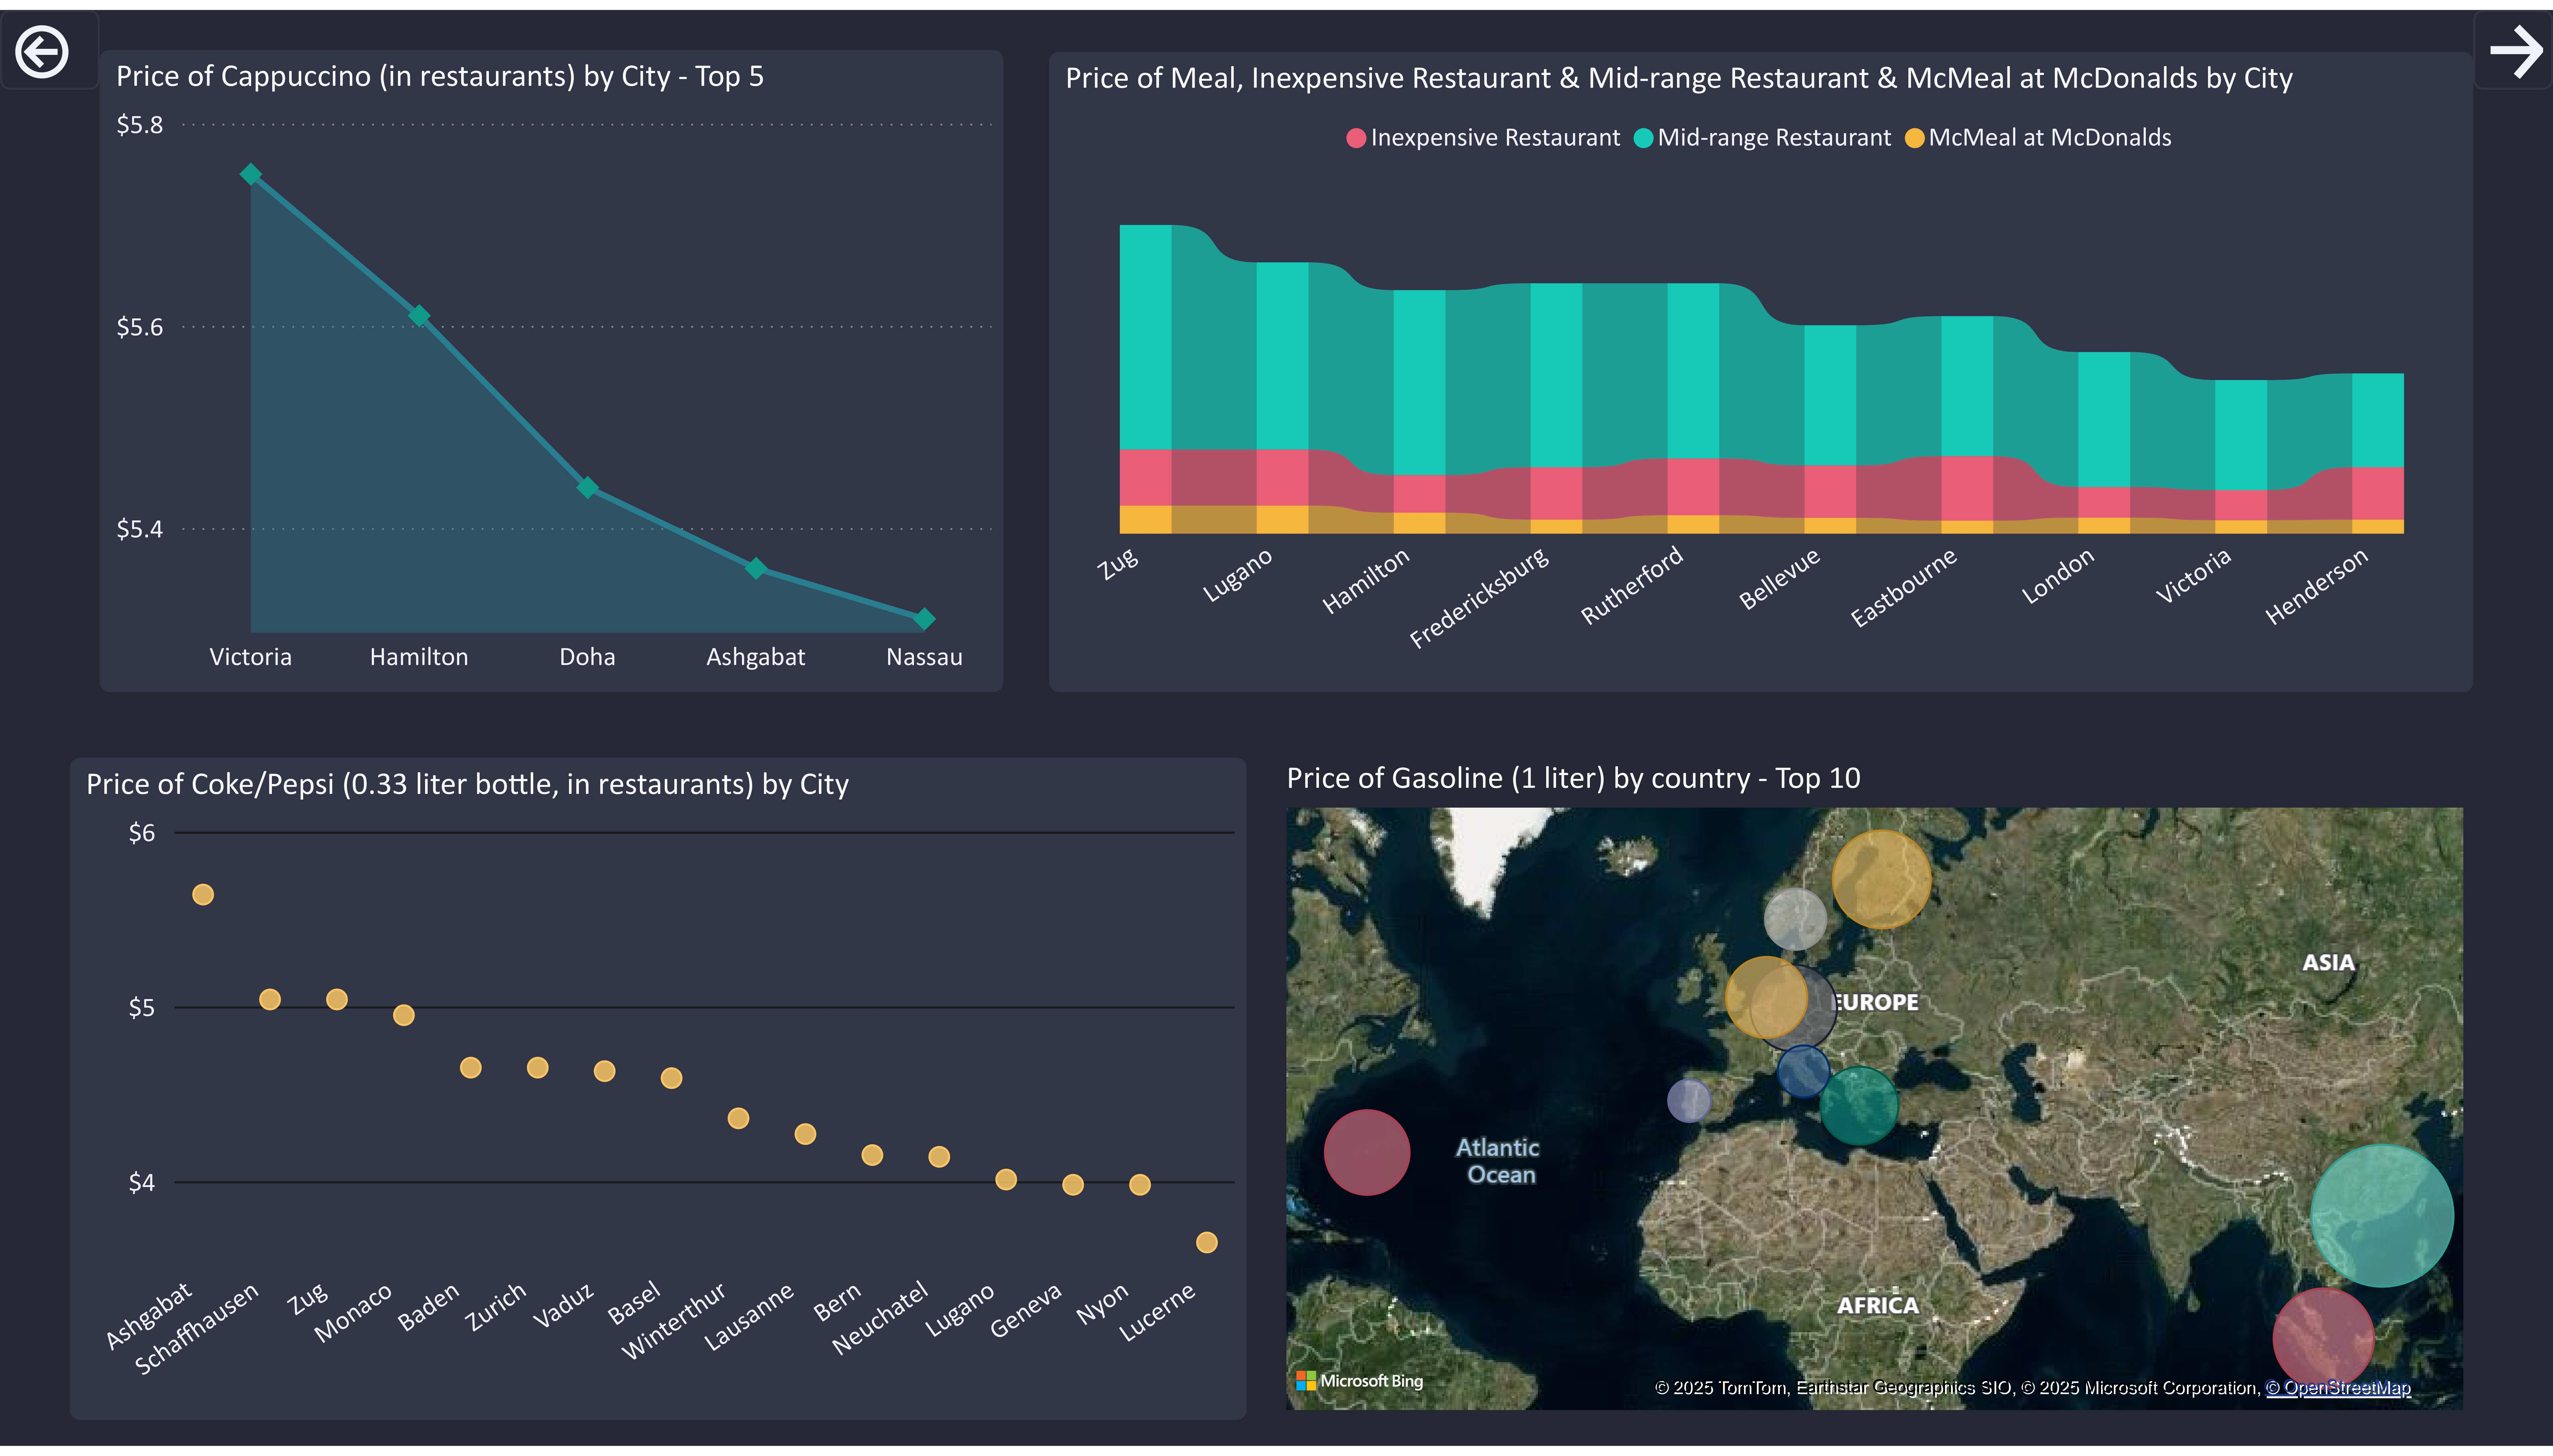

Layout of this report page (visuals, bound fields, positions):
{"tool":"powerbi","page":{"name":"Restaurant & Gas","canvas":[1280,720],"ordinal":3},"visuals":[{"type":"stackedAreaChart","title":"Price of Cappuccino (in restaurants) by City - Top 5","fields":{"Y":["cost-of-living_v2.Cappuccino (regular, in restaurants) (USD)"],"Category":["cost-of-living_v2.city"]},"box":[50,20,453.3,321.7],"z":0},{"type":"scatterChart","title":"Price of Coke/Pepsi (0.33 liter bottle, in restaurants) by City","fields":{"X":["cost-of-living_v2.city"],"Y":["cost-of-living_v2.Coke/Pepsi (0.33 liter bottle, in restaurants) (USD)"]},"box":[35,375,590,331.7],"z":1000},{"type":"ribbonChart","title":"Price of Meal, Inexpensive Restaurant & Mid-range Restaurant & McMeal at McDonalds by City","fields":{"Category":["cost-of-living_v2.city"],"Y":["cost-of-living_v2.Meal, Inexpensive Restaurant (USD)","cost-of-living_v2.Meal for 2 People, Mid-range Restaurant, Three-course (USD)","cost-of-living_v2.McMeal at McDonalds (or Equivalent Combo Meal) (USD)"]},"box":[525.7,21.4,714.3,321.4],"z":2000},{"type":"map","title":"Price of Gasoline (1 liter) by country - Top 10","fields":{"Size":["cost-of-living_v2.Gasoline (1 liter) (USD)"],"Category":["cost-of-living_v2.country"]},"box":[640,375,600,331.7],"z":3000},{"type":"actionButton","box":[0,0,50,40],"z":4000},{"type":"actionButton","box":[1240,0,40,40],"z":5000}]}

Visuals, with their boxes in screenshot pixels (x1, y1, x2, y2), scaled from the page's 1280x720 canvas onto the 2553x1456 screenshot:
"Price of Cappuccino (in restaurants) by City - Top 5" stackedAreaChart: (left=100, top=41, right=1004, bottom=691)
"Price of Coke/Pepsi (0.33 liter bottle, in restaurants) by City" scatterChart: (left=70, top=758, right=1247, bottom=1429)
"Price of Meal, Inexpensive Restaurant & Mid-range Restaurant & McMeal at McDonalds by City" ribbonChart: (left=1049, top=43, right=2473, bottom=693)
"Price of Gasoline (1 liter) by country - Top 10" map: (left=1276, top=758, right=2473, bottom=1429)
actionButton: (left=0, top=0, right=100, bottom=81)
actionButton: (left=2473, top=0, right=2553, bottom=81)
